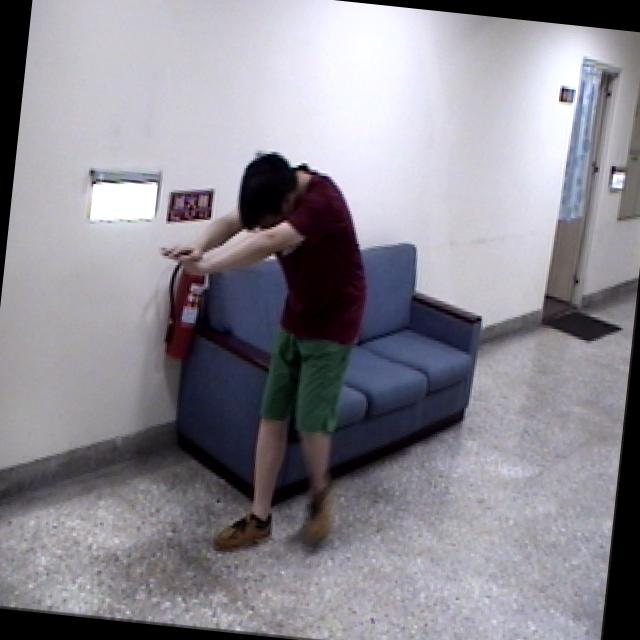bend: (125, 136, 388, 567)
